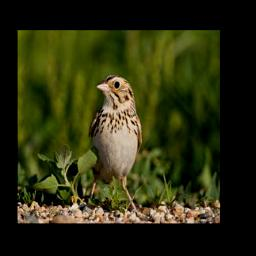Sparrow: (87, 72, 144, 217)
